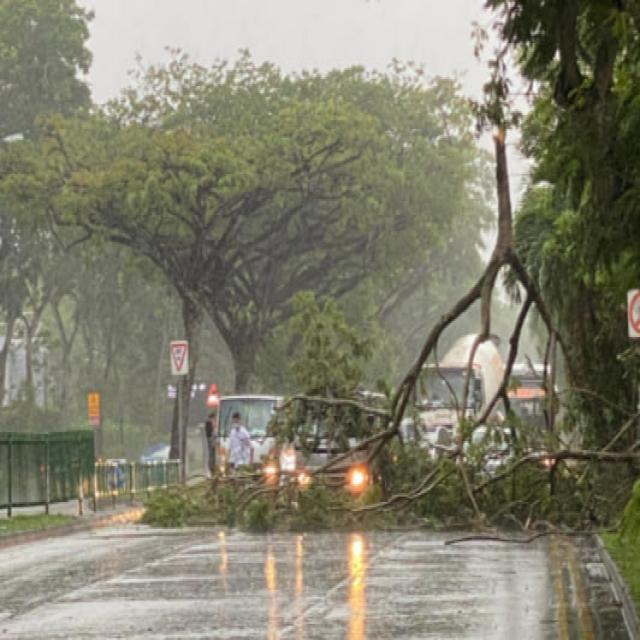fallen_tree: (127, 276, 640, 553)
